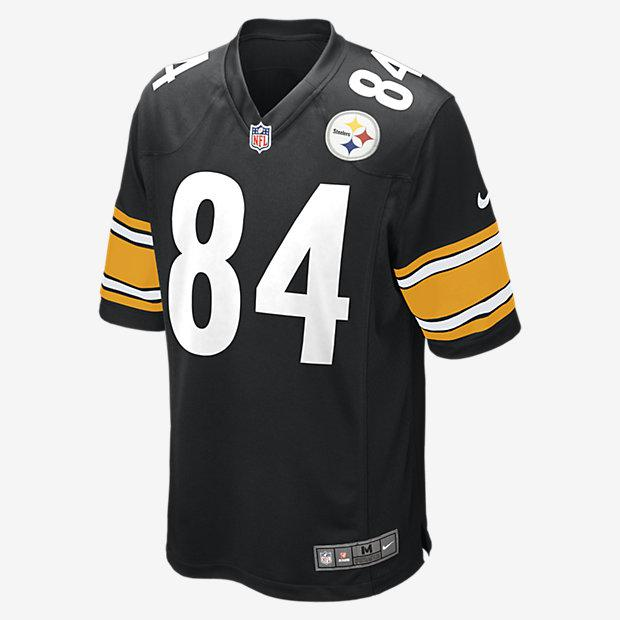teeshirt: (74, 10, 555, 620)
